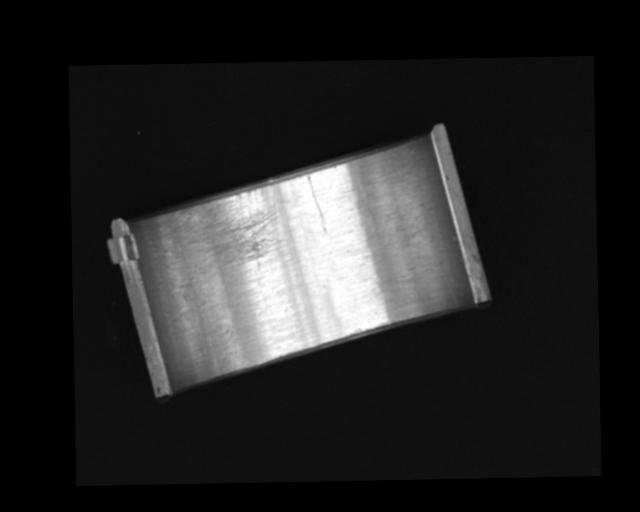nick: (415, 225, 457, 308), (306, 175, 327, 232)
scratch: (176, 183, 280, 270)
